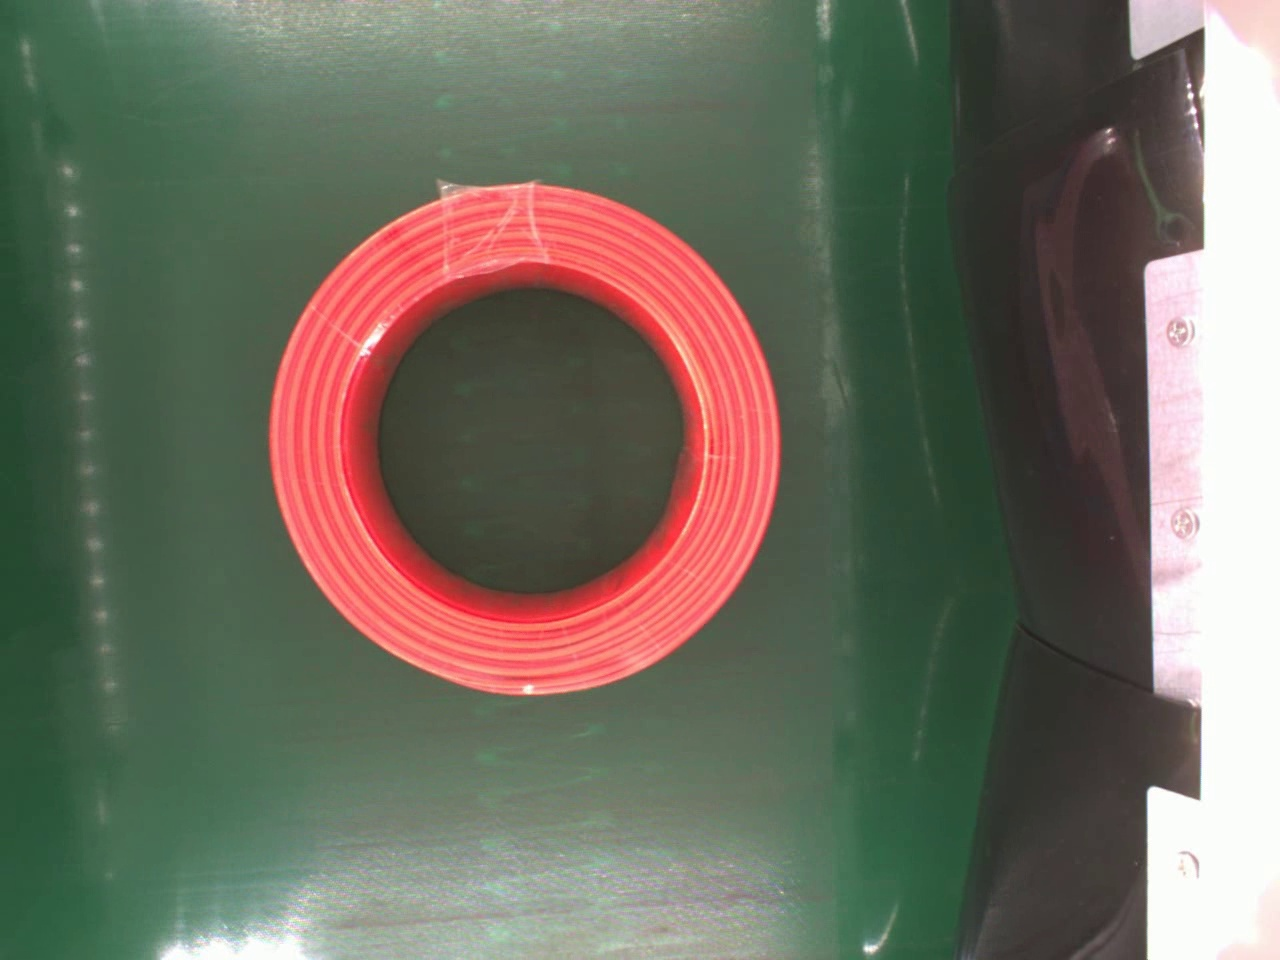red: (265, 179, 783, 698)
